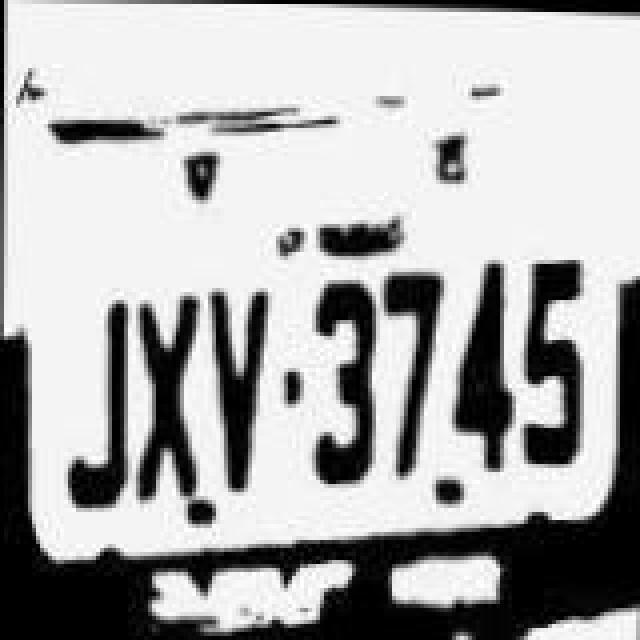3: (304, 272, 380, 488)
4: (446, 248, 518, 480)
5: (516, 250, 592, 482)
7: (376, 266, 444, 482)
J: (58, 278, 134, 510)
V: (204, 272, 276, 496)
X: (128, 278, 200, 498)
